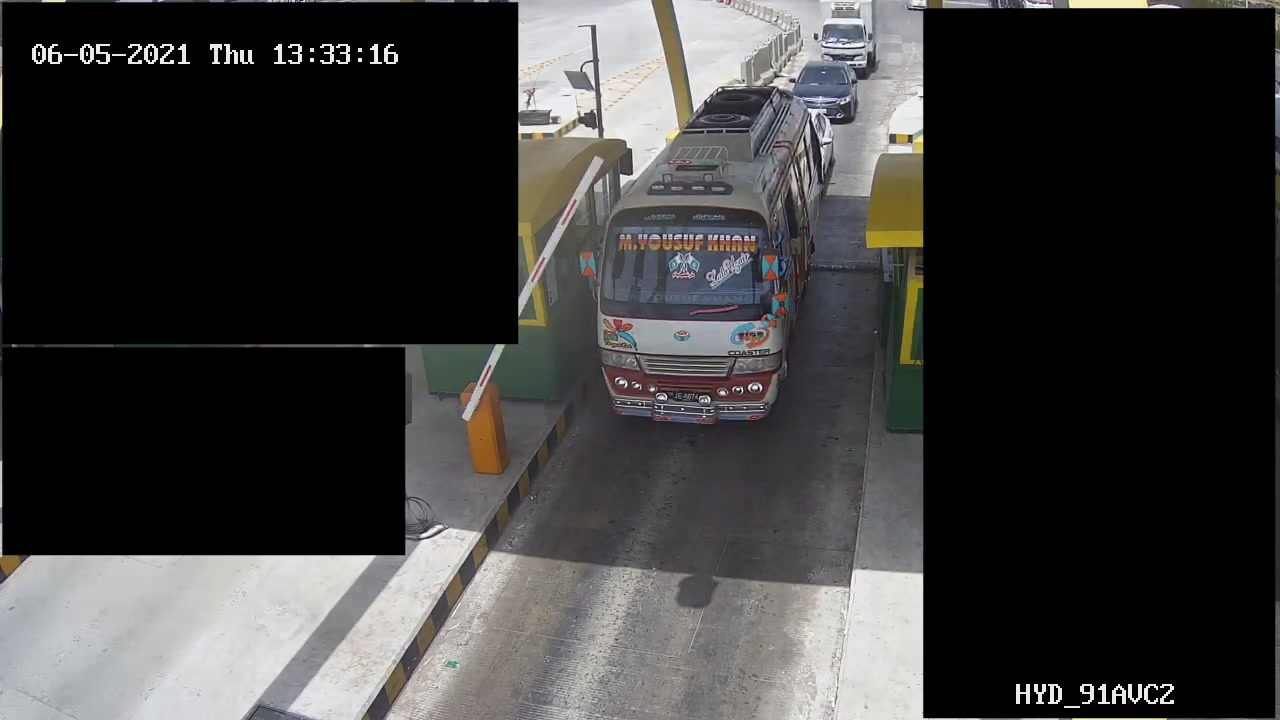F4: (598, 85, 809, 432)
